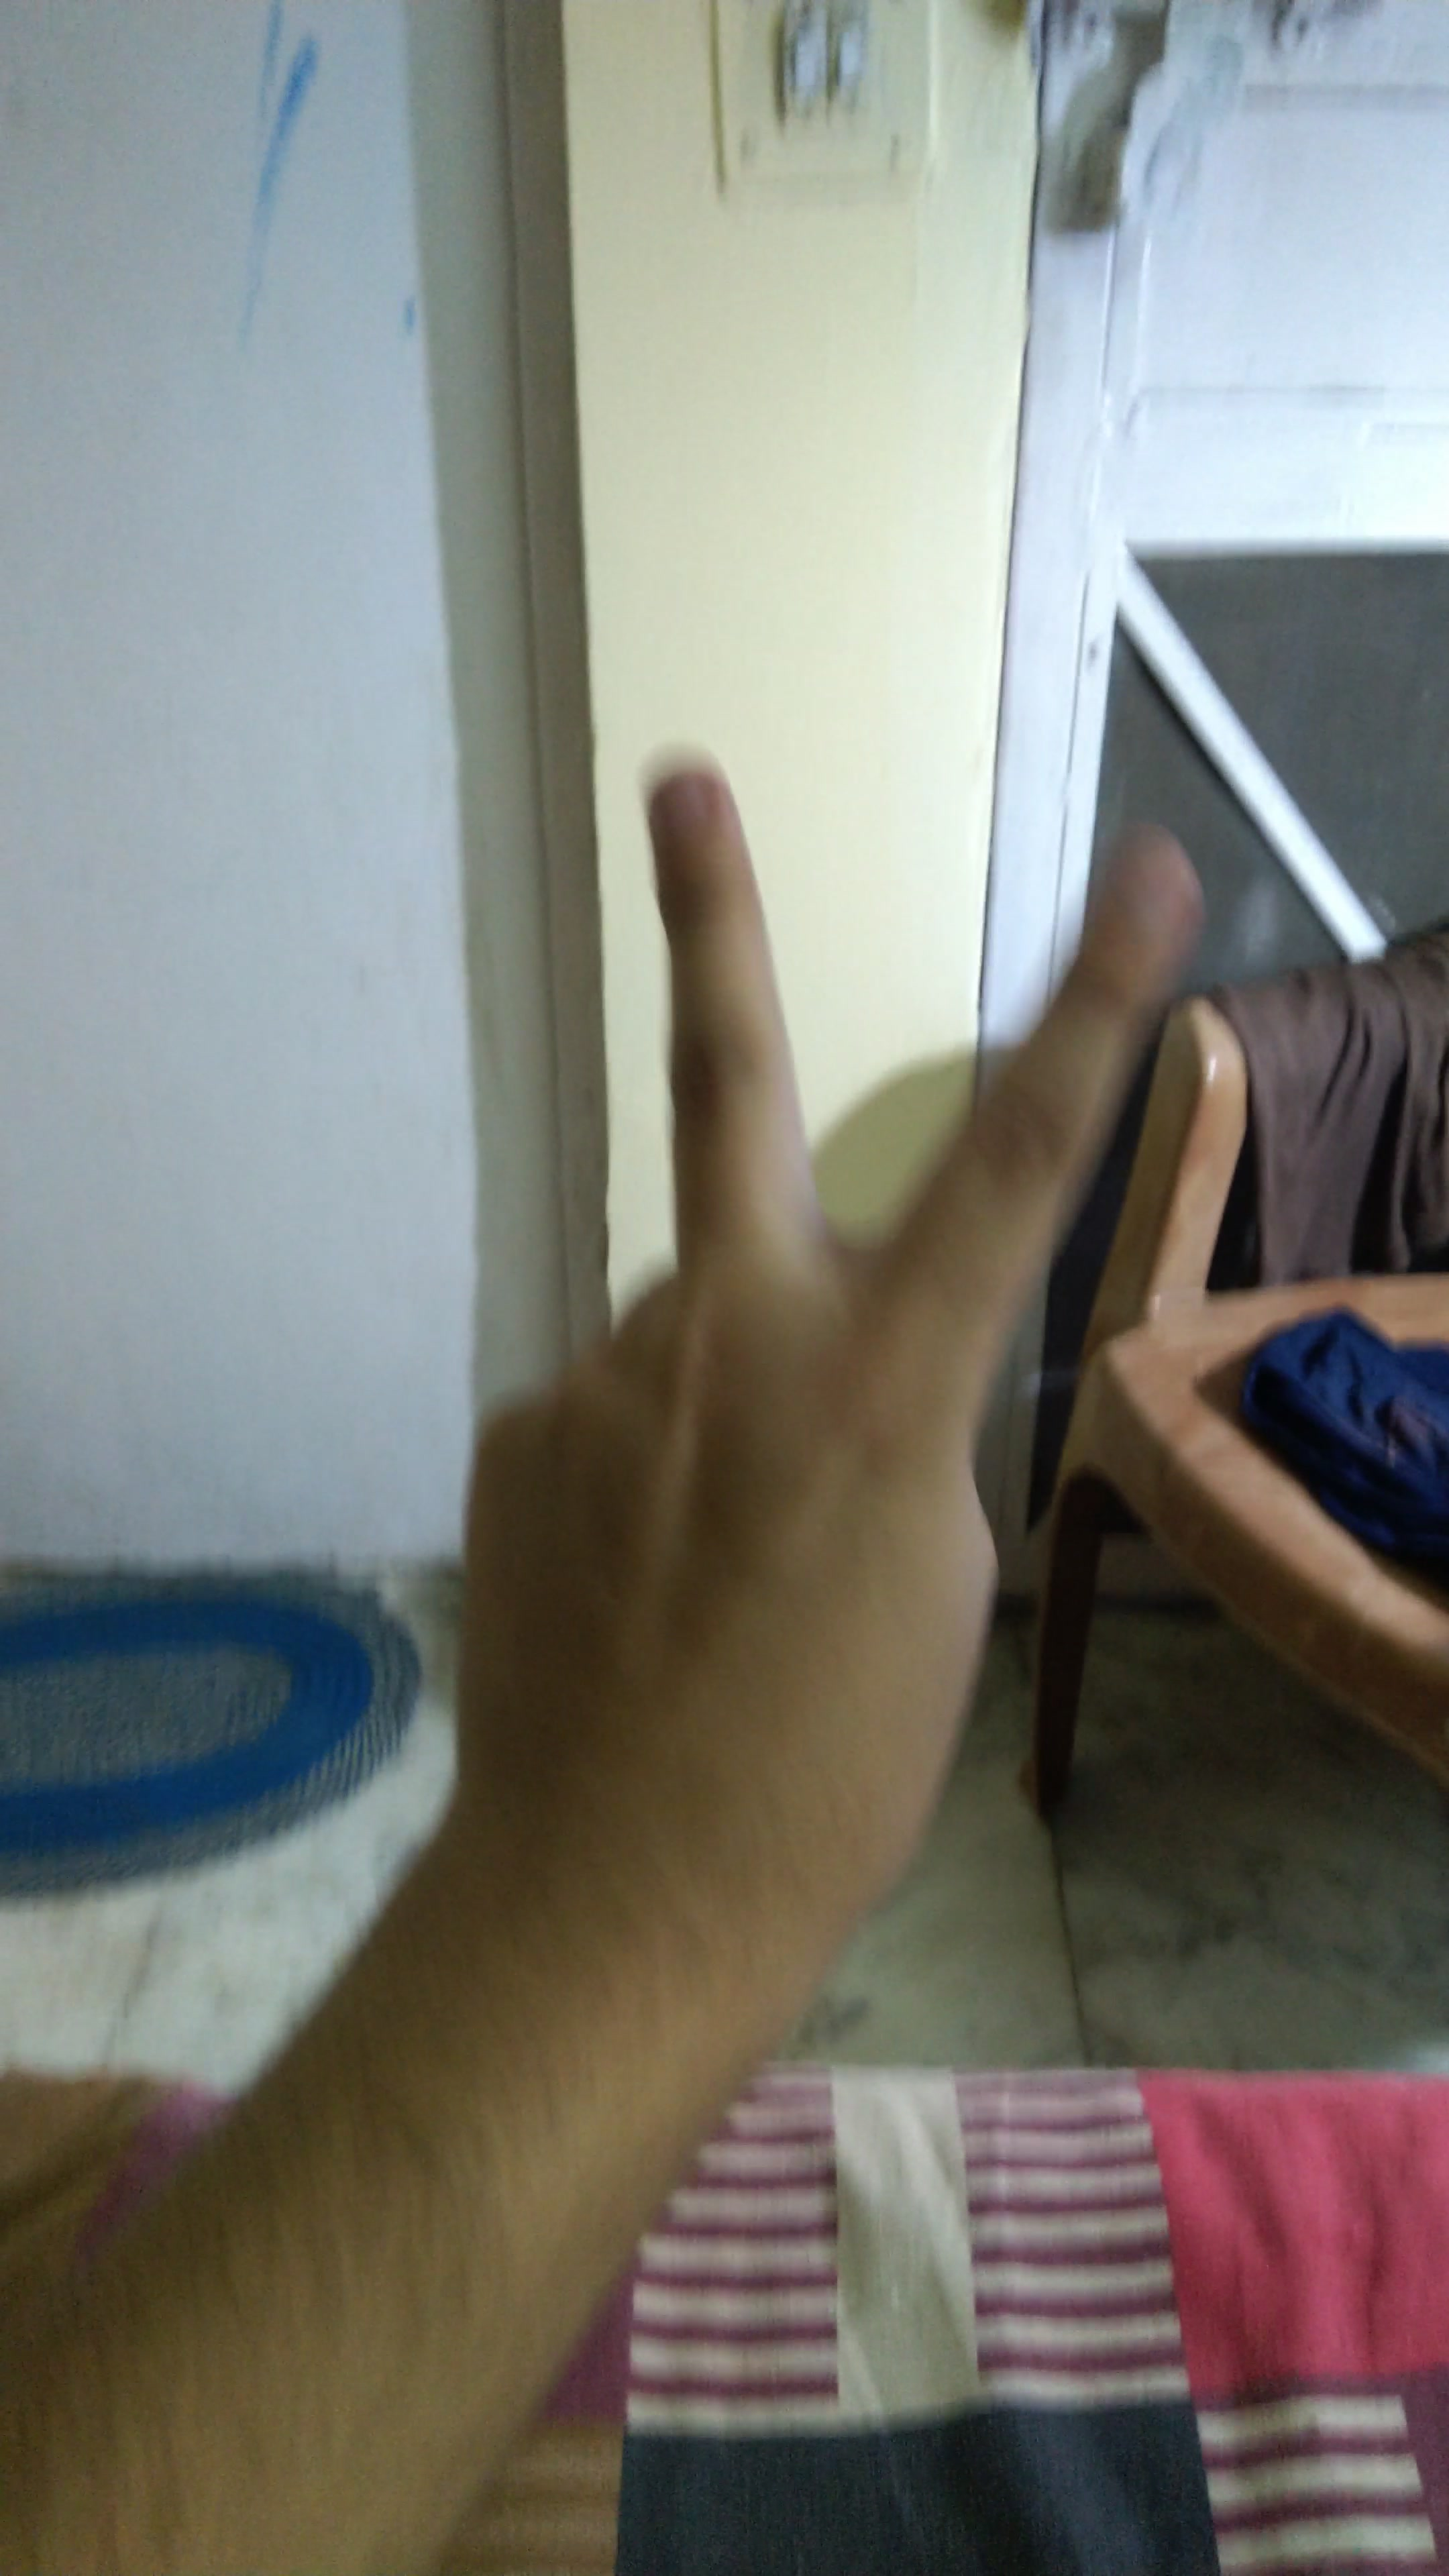hand: (354, 711, 1221, 2010)
